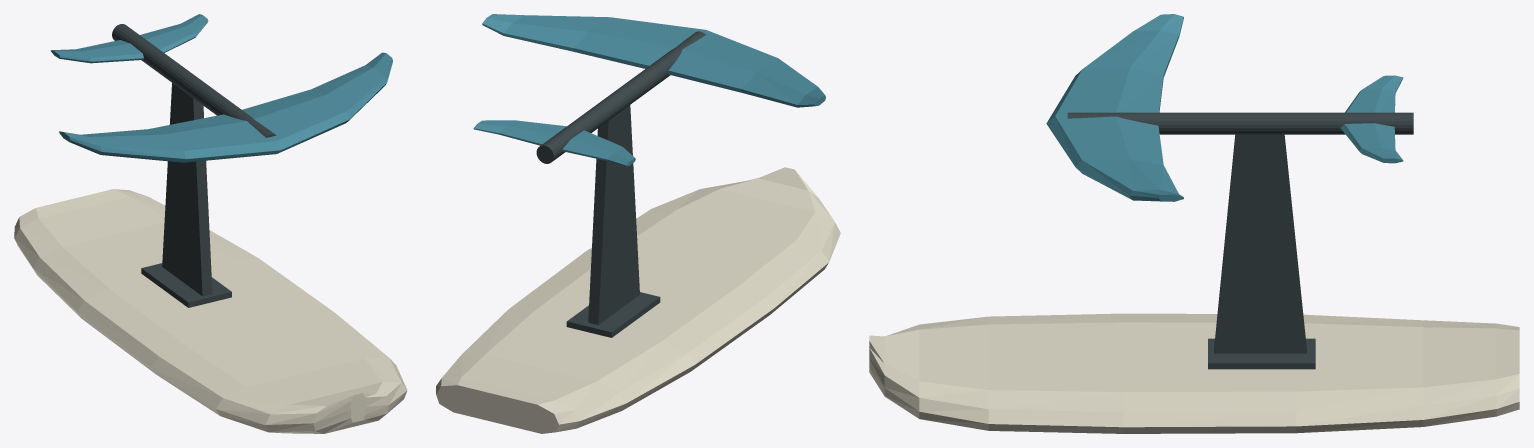
The picture shows the model from 3 angles, left to right: view 1: azimuth 30°, elevation 25°; view 2: azimuth 150°, elevation 25°; view 3: azimuth 270°, elevation 25°; orthographic projection. The views are drawn at different scales.
Visible parts, largest first — view 1: WholeRoundedNoseAndBroadTailBoard, WholeBroadSweptFrontWing, WholeDeepTaperedMast, WholeContinuousLowerFuselage, WholeSeparateSmallTailWing, WholeUnderboardMastMount; view 2: WholeRoundedNoseAndBroadTailBoard, WholeBroadSweptFrontWing, WholeDeepTaperedMast, WholeContinuousLowerFuselage, WholeSeparateSmallTailWing, WholeUnderboardMastMount; view 3: WholeRoundedNoseAndBroadTailBoard, WholeDeepTaperedMast, WholeBroadSweptFrontWing, WholeContinuousLowerFuselage, WholeSeparateSmallTailWing, WholeUnderboardMastMount.
Part boxes in pixels (x1,y1,x2,y2): WholeRoundedNoseAndBroadTailBoard: (14, 189, 407, 433); WholeBroadSweptFrontWing: (59, 52, 392, 162); WholeDeepTaperedMast: (162, 83, 212, 296); WholeContinuousLowerFuselage: (112, 24, 276, 137); WholeSeparateSmallTailWing: (50, 14, 208, 63); WholeUnderboardMastMount: (141, 263, 231, 307); WholeRoundedNoseAndBroadTailBoard: (436, 167, 840, 433); WholeBroadSweptFrontWing: (482, 14, 825, 107); WholeDeepTaperedMast: (588, 105, 639, 324); WholeContinuousLowerFuselage: (536, 31, 705, 163); WholeSeparateSmallTailWing: (473, 120, 635, 166); WholeUnderboardMastMount: (566, 292, 660, 337); WholeRoundedNoseAndBroadTailBoard: (869, 313, 1519, 433); WholeDeepTaperedMast: (1214, 134, 1306, 353); WholeBroadSweptFrontWing: (1046, 14, 1183, 201); WholeContinuousLowerFuselage: (1067, 112, 1413, 134); WholeSeparateSmallTailWing: (1340, 75, 1403, 163); WholeUnderboardMastMount: (1208, 338, 1315, 369).
Bounding box in the file's own units: 1.11 × 0.8406 × 1.69.
